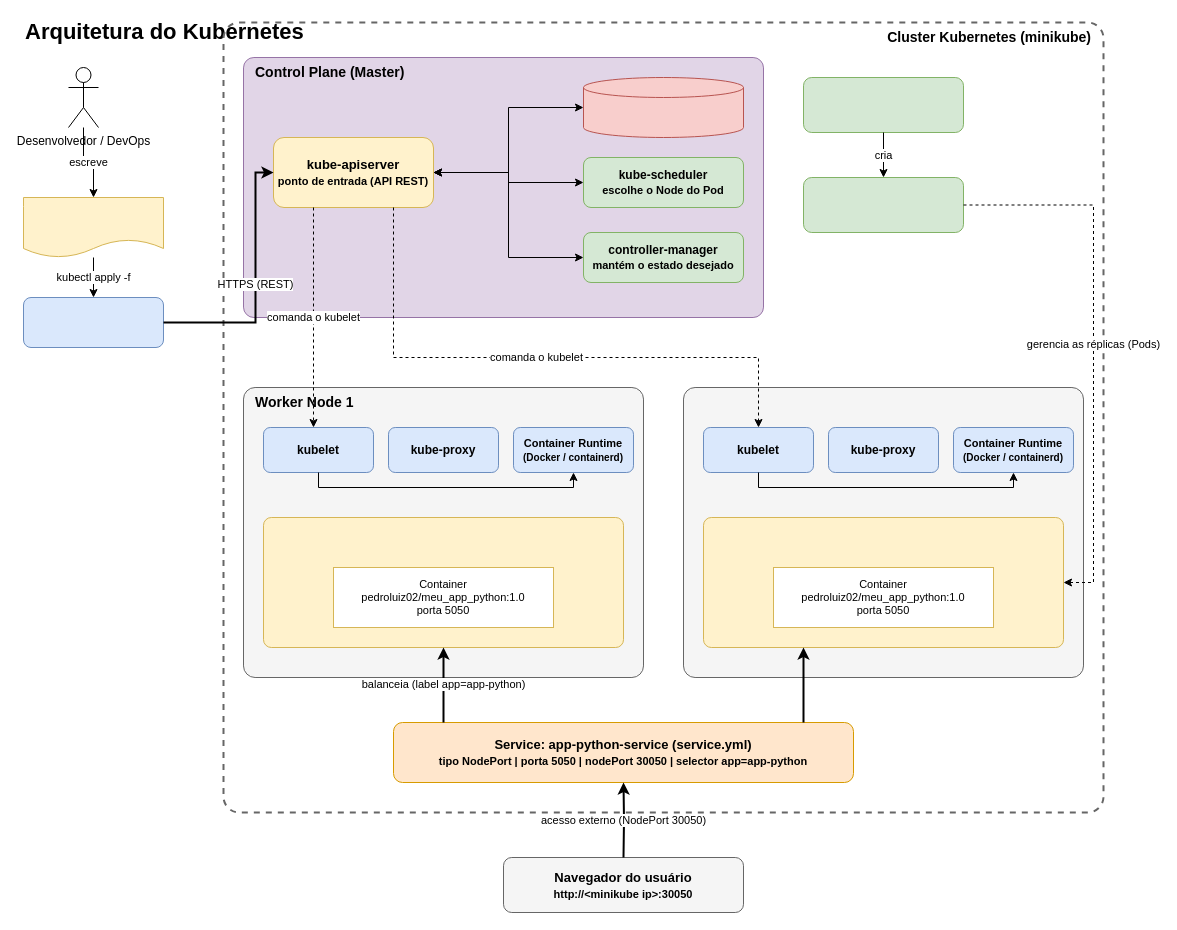
This 1177x930 diagram has some shape labels left out. Each missing label, with the box of its shape:
Deployment define réplicas e atualizações: (802, 76, 964, 132)
etcd banco chave-valor (estado): (582, 76, 744, 138)
kubectl (CLI): (22, 296, 164, 348)
Manifestos YAML pod.yml / service.yml: (22, 196, 164, 258)
Pod: app-python (pod.yml) label app=app-python | IP interno do Pod: (262, 516, 624, 648)
Pod: app-python (réplica) criado pelo ReplicaSet | mesma label: (702, 516, 1064, 648)
ReplicaSet garante N Pods rodando: (802, 176, 964, 232)
Worker Node 2: (682, 386, 1084, 678)
